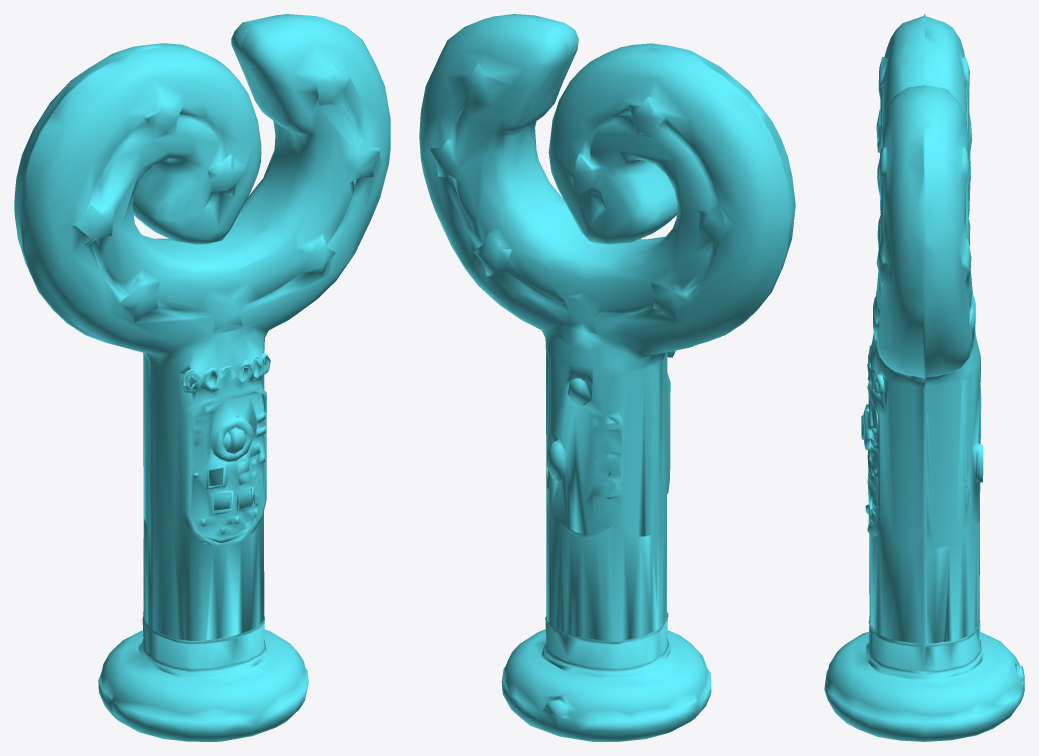
File: LightStick.glb
The picture shows the model from 3 angles, left to right: view 1: azimuth 30°, elevation 25°; view 2: azimuth 150°, elevation 25°; view 3: azimuth 270°, elevation 25°; orthographic projection. The views are drawn at different scales.
Visible parts, largest first — view 1: 手燈; view 2: 手燈; view 3: 手燈.
Boxes of the visible parts, x1,y1,x2,y2 form: 手燈: (14,14,390,741); 手燈: (419,14,795,741); 手燈: (824,14,1024,741).
Bounding box in the file's own units: 0.028 × 0.0489 × 0.0137.
